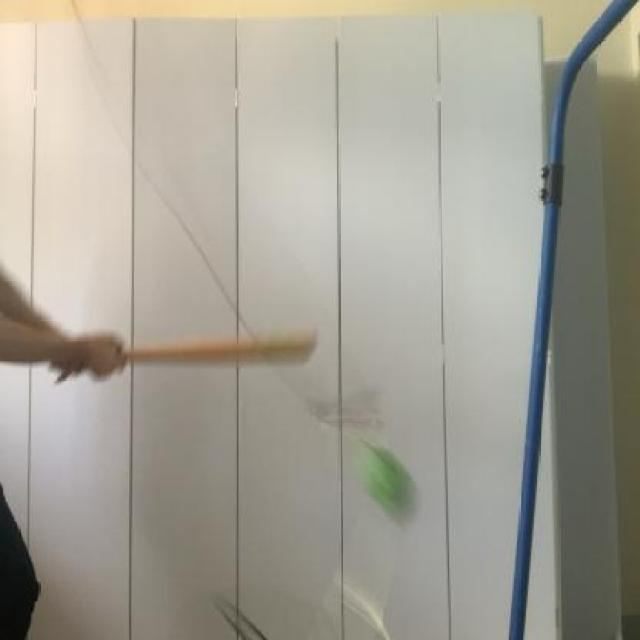baseball: (336, 424, 438, 534)
